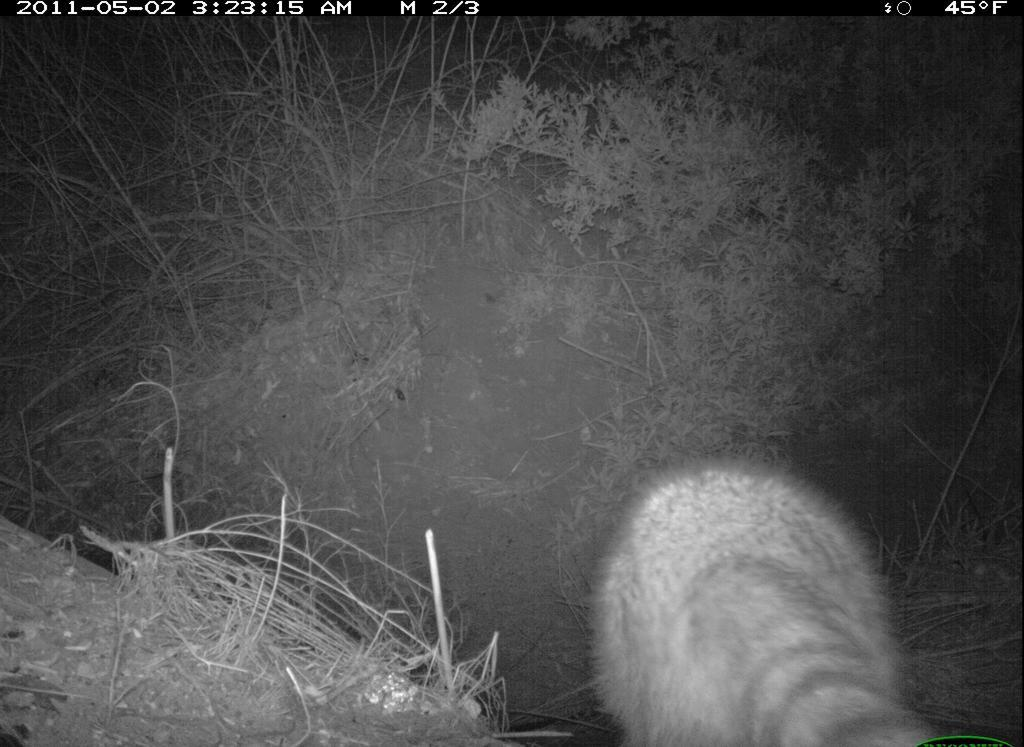raccoon: (575, 431, 945, 745)
